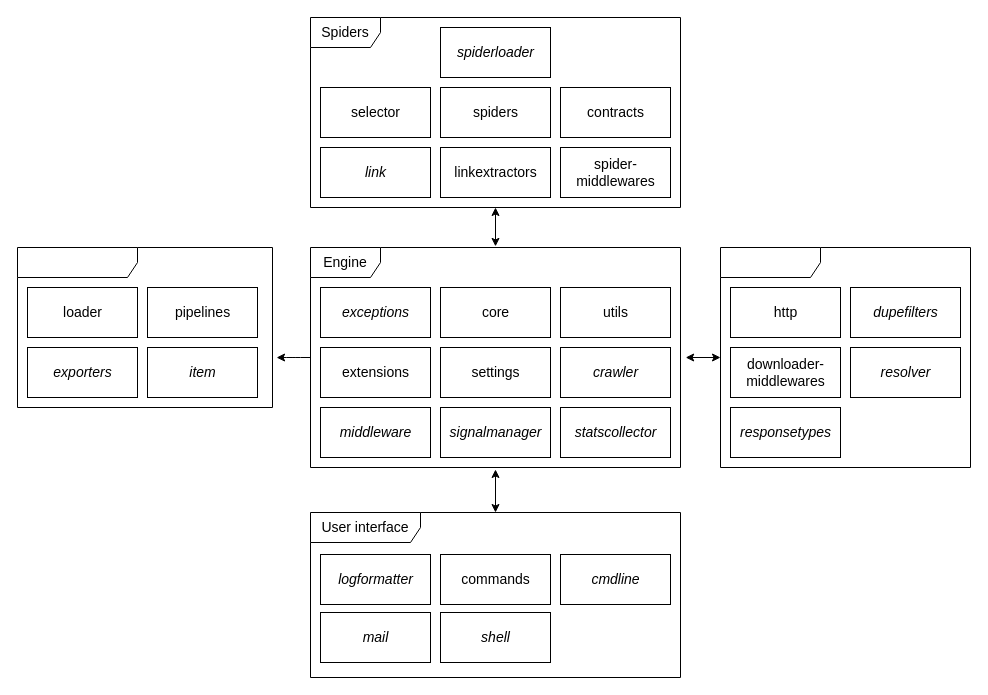
Image size: 988x695. Some labels were removed from this diagram. Here are the shapes that lost their labels. From the top down, the centre of each, then its label:
At [144,327]: "Item procesing".
At [845,357]: "Downloader".
